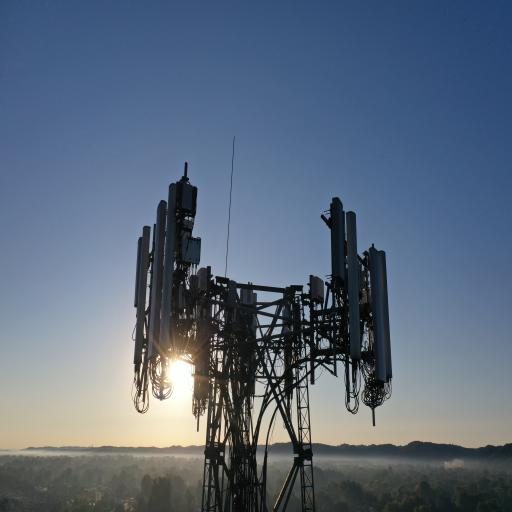supporting_tower: (131, 160, 393, 512)
